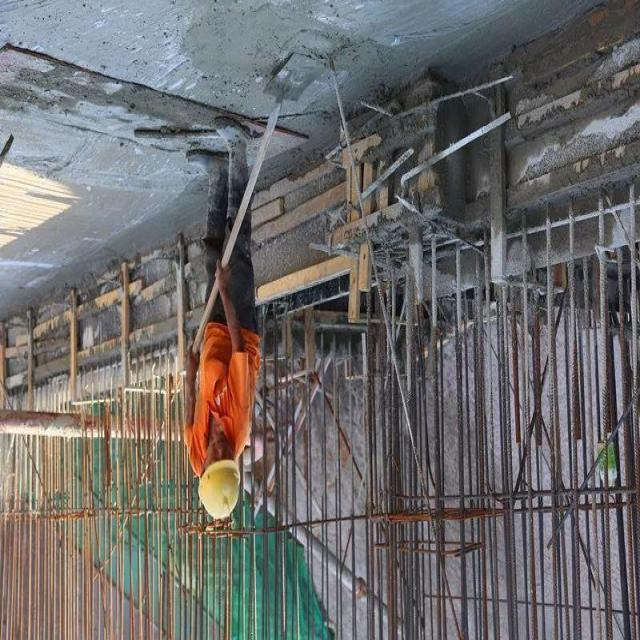helmet: (184, 452, 244, 526)
